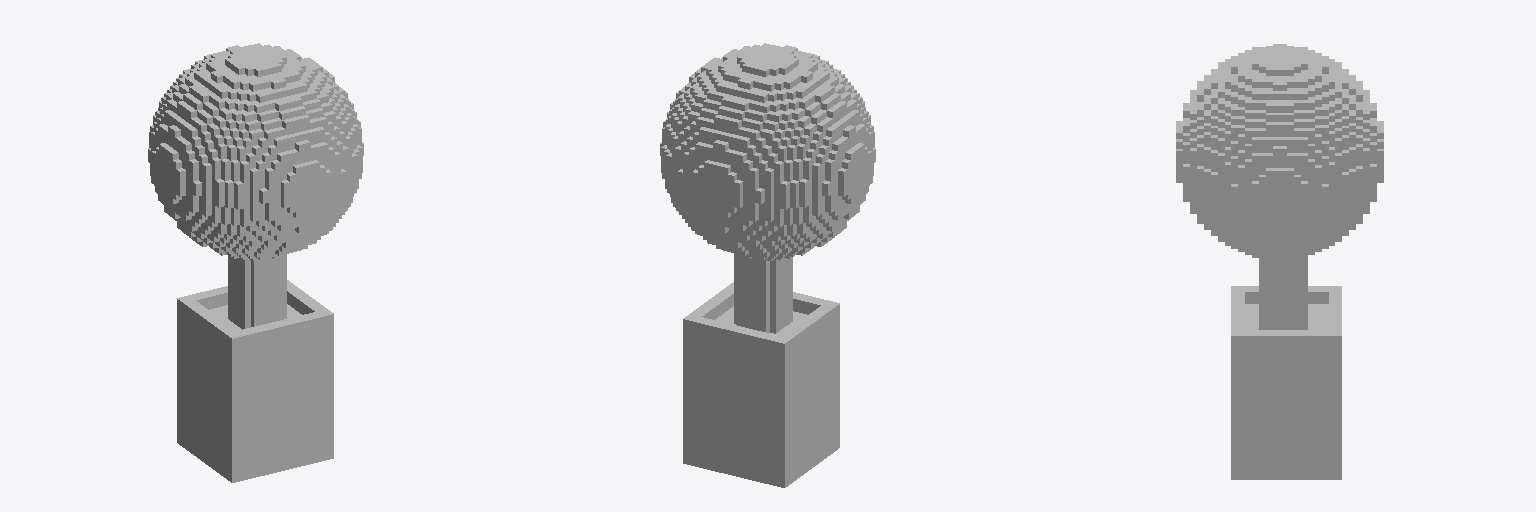
File: Tree.obj
3 renders of one model, left to right at view 1: azimuth 30°, elevation 25°; view 2: azimuth 150°, elevation 25°; view 3: azimuth 270°, elevation 25°, orthographic.
Visible parts, largest first — view 1: object 1; view 2: object 1; view 3: object 1.
Part boxes in pixels (left/top/right/bottom): object 1: left=148, top=43, right=363, bottom=482; object 1: left=660, top=43, right=875, bottom=487; object 1: left=1176, top=44, right=1383, bottom=479.
Bounding box in the file's own units: 3 × 6.3 × 3.